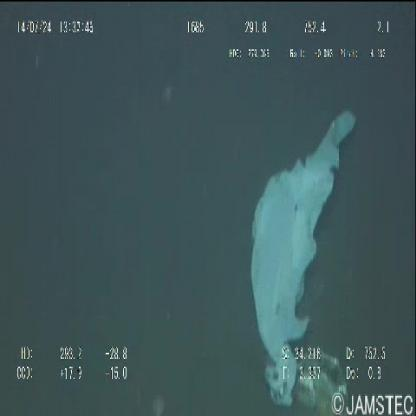Rác: (252, 111, 356, 409)
